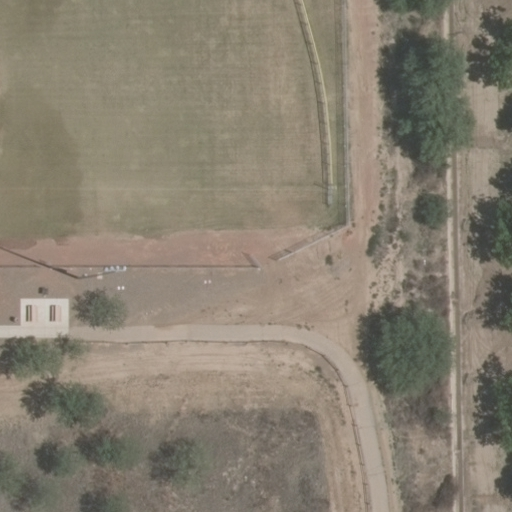DT: (83, 261, 127, 284)
